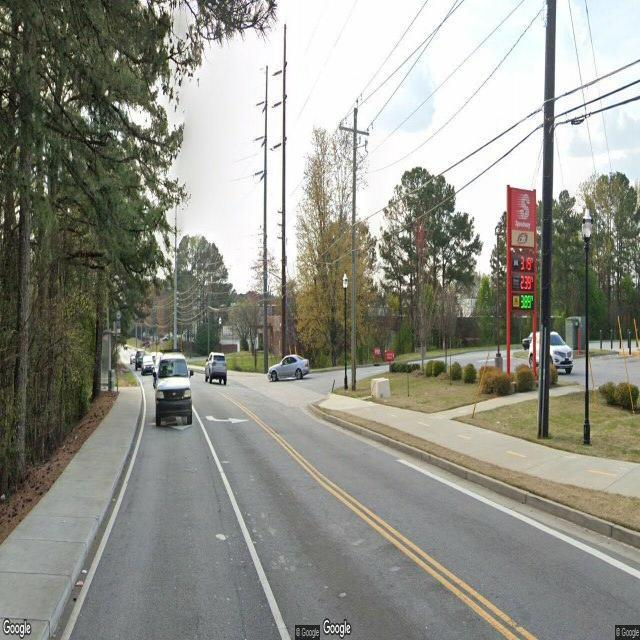shelter: (100, 328, 118, 391)
trash_can: (110, 369, 114, 391)
